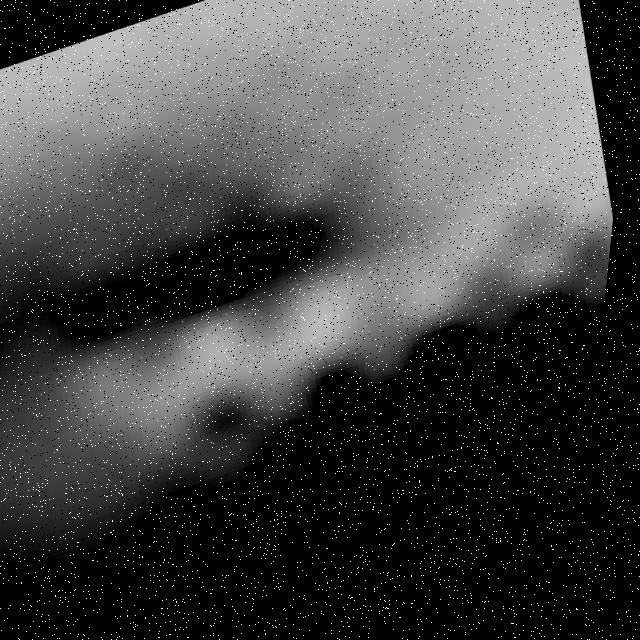person: (1, 1, 640, 598)
